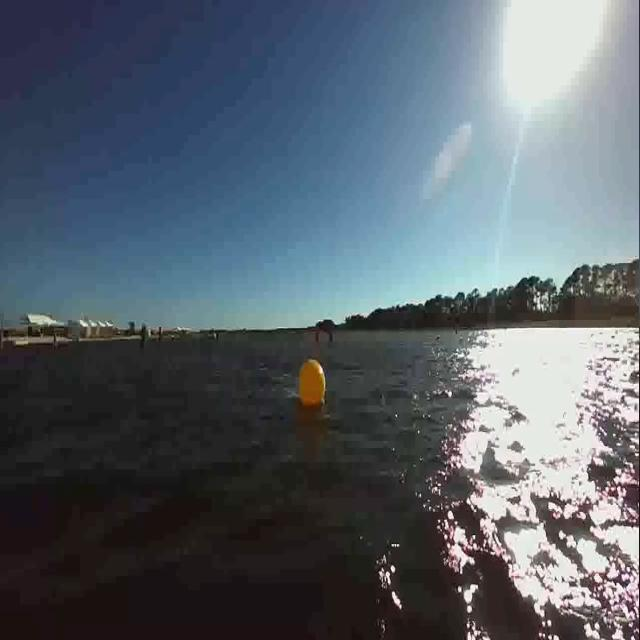yellow-buoy: (298, 357, 328, 412)
